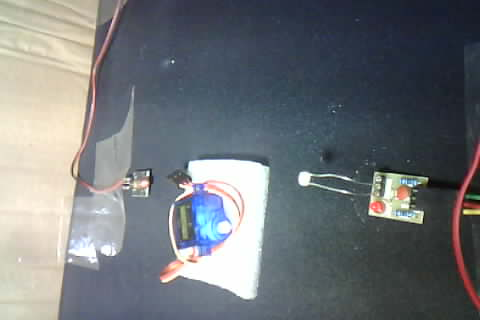motor: (150, 146, 262, 293)
